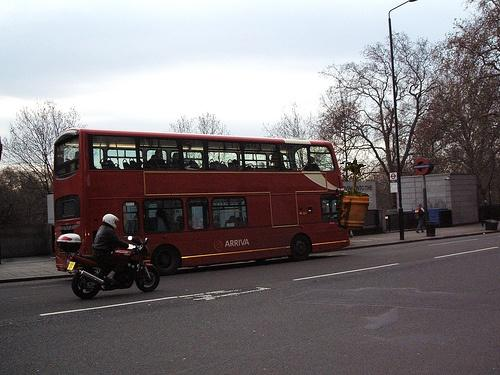tampered: (337, 159, 369, 229)
